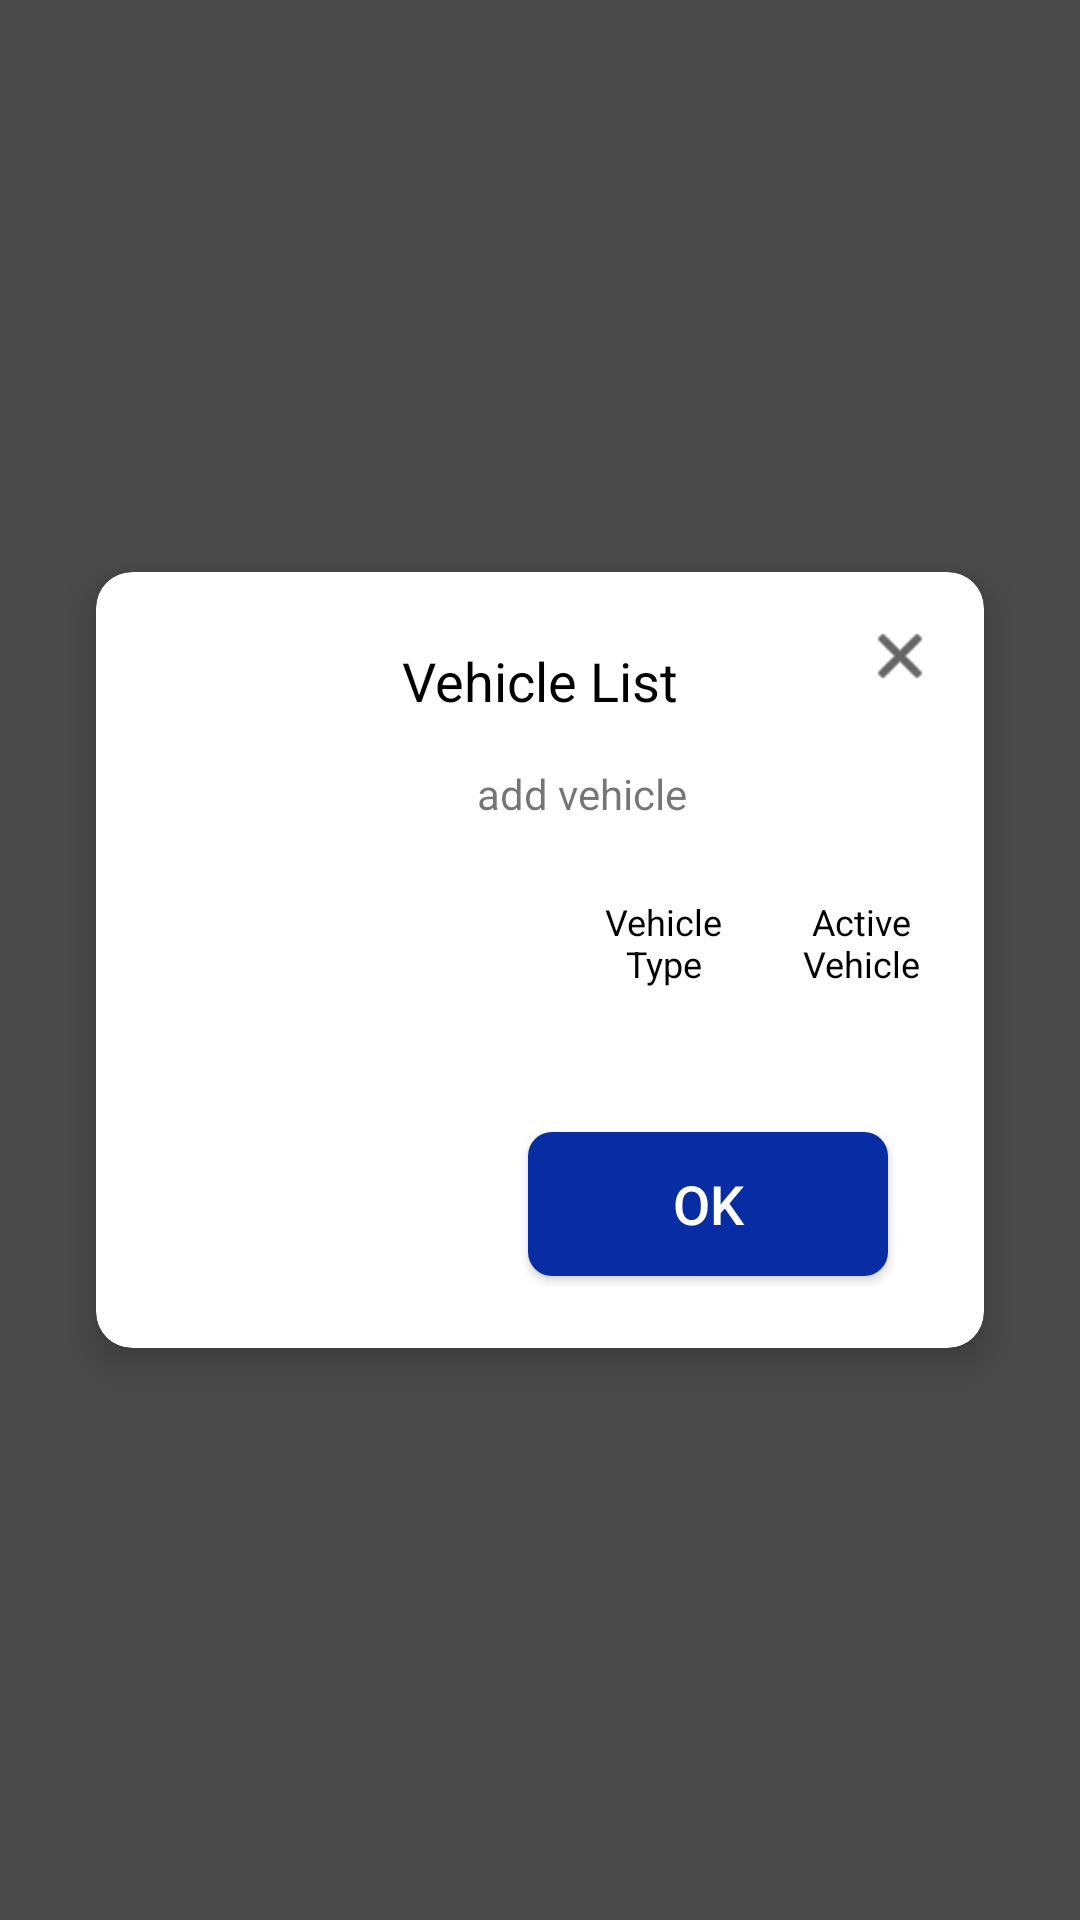

Named icons in this screenshot (1080 × 1920) and their bounding boxes, region(x1, y1, x2, y2):
close clear cancel: region(877, 633, 923, 679)
